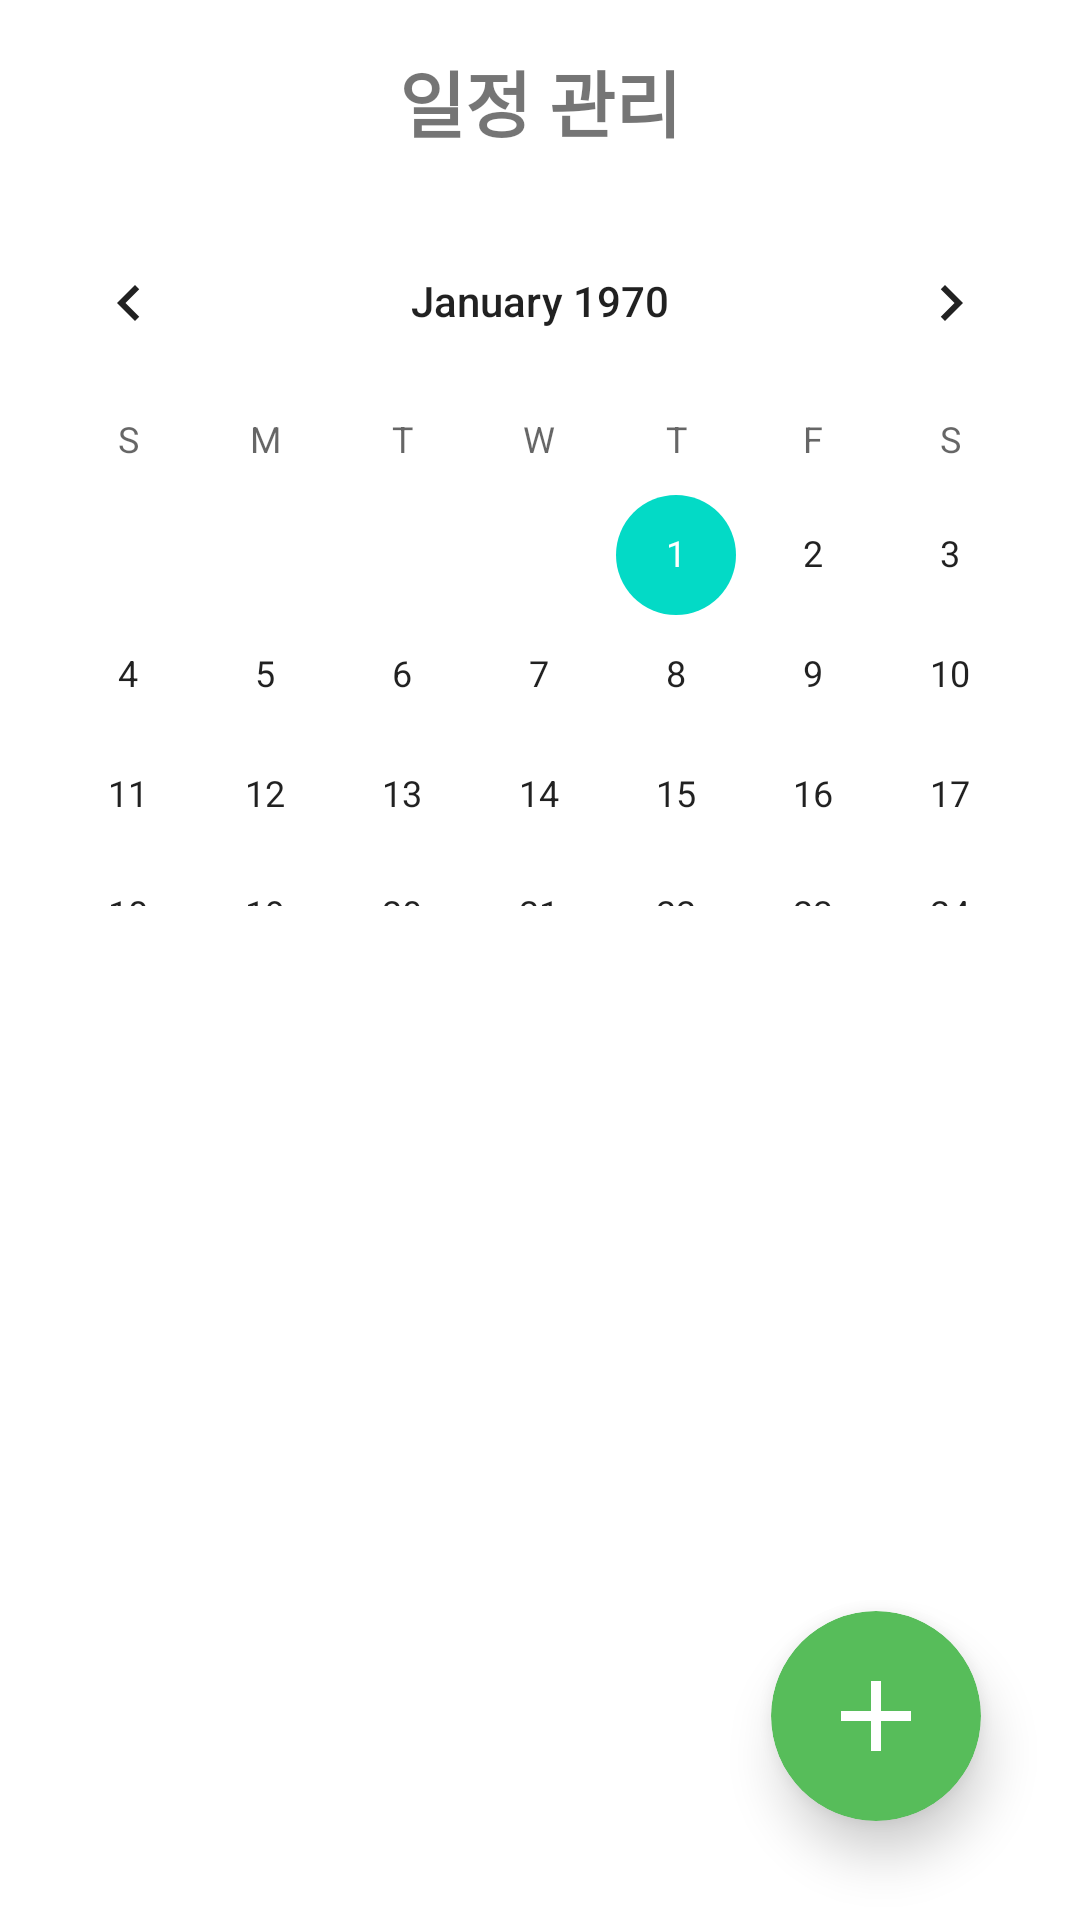

Where icons sit on this 1080 x 1920 app screen, as box(x1, y1, x2, y2):
일정 추가: box(771, 1611, 981, 1821)
